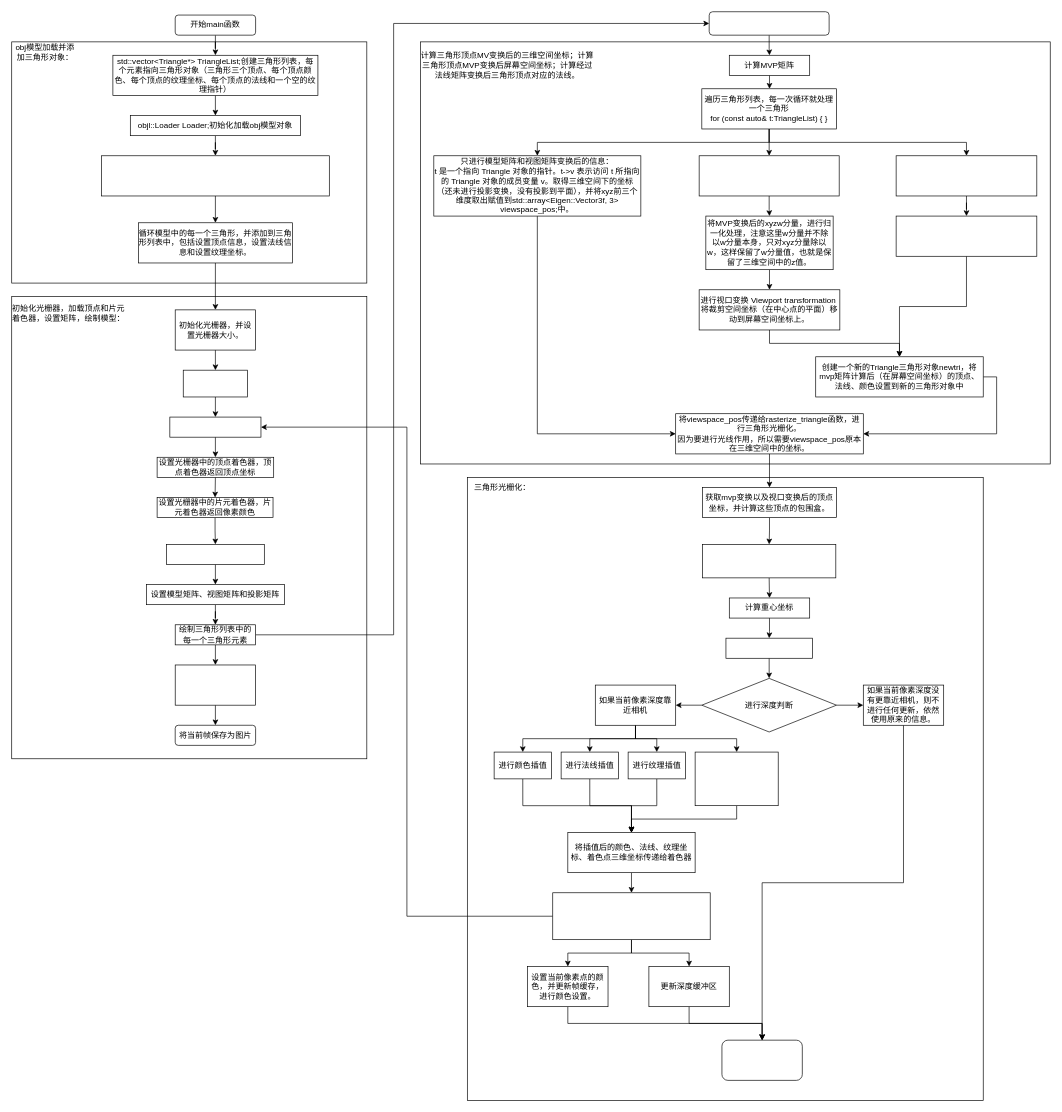
Some shapes in this 1062 by 1112 pixel diagram are drawn without their labels. Each missing label, with the box of its shape:
Loader.LoadFile("../models/spot/spot_triangulated_good.obj");输入模型路径进行模型加载: (101, 155, 329, 196)
完成三角形光栅化。: (721, 1040, 802, 1080)
对法线进行变换，将法线从模型空间转换到裁剪空间，法线矩阵的w分量设置为0，因为法线是方向向量，w分量是0，如果w分量是1，表示一个点。: (895, 215, 1037, 256)
开始绘制每一个三角形: (709, 11, 829, 35)
深度缓存插值: (725, 638, 812, 658)
清除颜色和深度缓冲区: (166, 544, 264, 564)
获取光栅化器中的颜色缓冲帧，并显示出当前帧渲染结果: (175, 664, 256, 705)
计算法线矩阵inv_trans是 view * model 矩阵的逆矩阵的转置。: (895, 155, 1037, 196)
设置光栅器中的纹理图片: (183, 370, 248, 397)
调用着色器，计算着色点颜色，这里着色器传入的参数就是当前像素对应的信息，着色器就根据这些信息计算出着色点颜色: (552, 892, 710, 940)
进行内部点三维空间插值，也就是当前着色的点在三维空间中的坐标x，y，z，而不是屏幕空间的插值: (694, 751, 778, 806)
进行完整MVP变换后的信息： 将顶点坐标从模型空间转换到裁剪空间。进行完整mvp变换。: (698, 155, 839, 196)
选择片元着色器模型: (169, 416, 261, 437)
遍历包围盒中的所有像素点，并以像素中心点为采样点，通过叉乘判断是否在三角形内容。: (702, 544, 836, 578)
